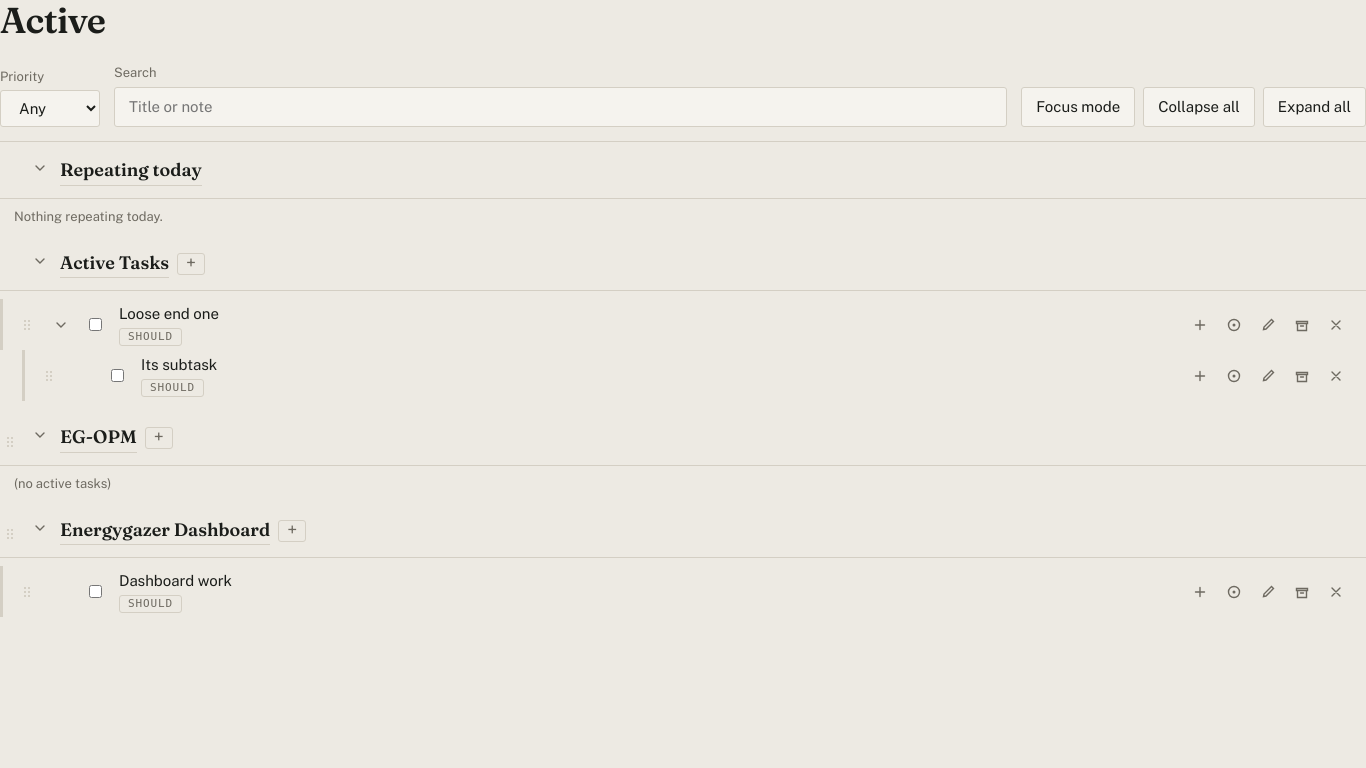
Test: adding from a category › closes on cancel without creating anything
The width and height of the screenshot is (1366, 768).
Click the button named "add a task": (191, 264) [177, 252, 205, 274]
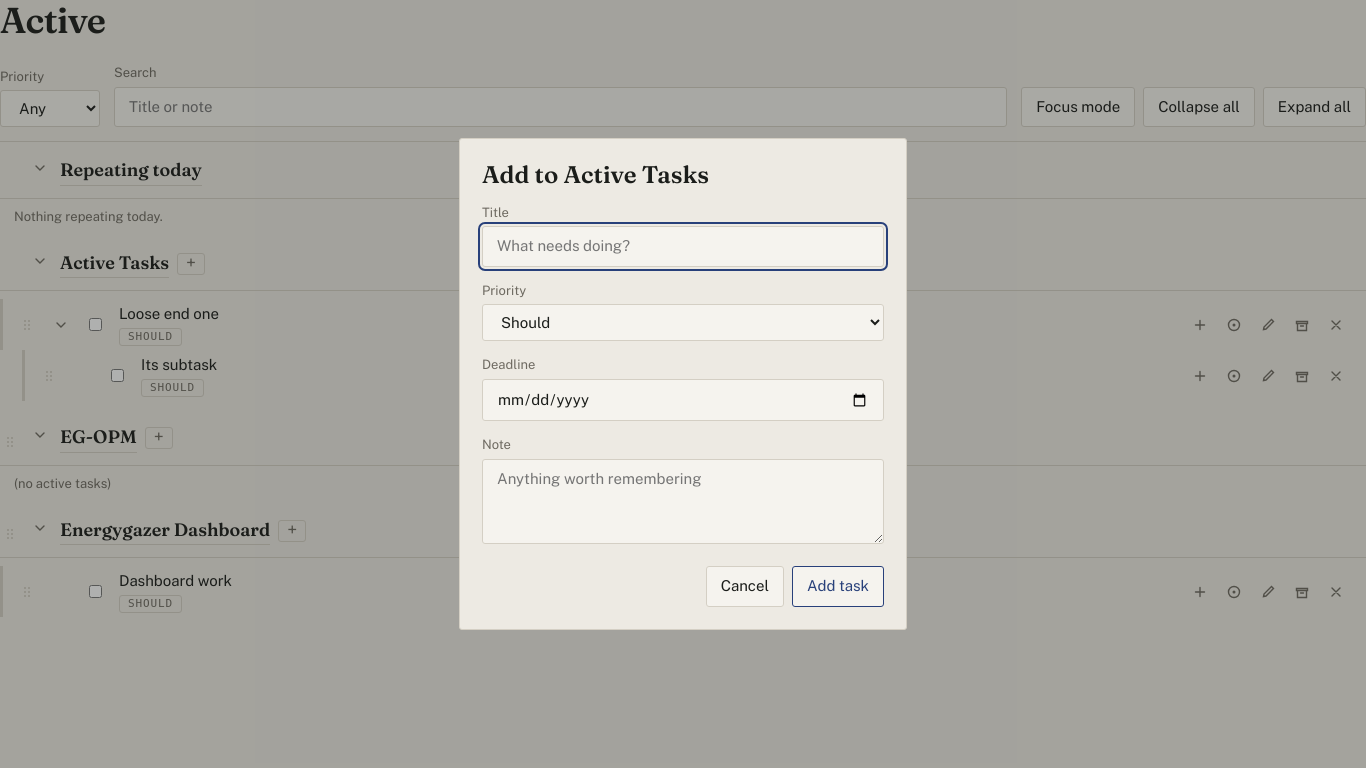
Now the dialog is shown, box [459, 138, 907, 630]
Click the button "Cancel": (745, 586) [706, 566, 784, 607]
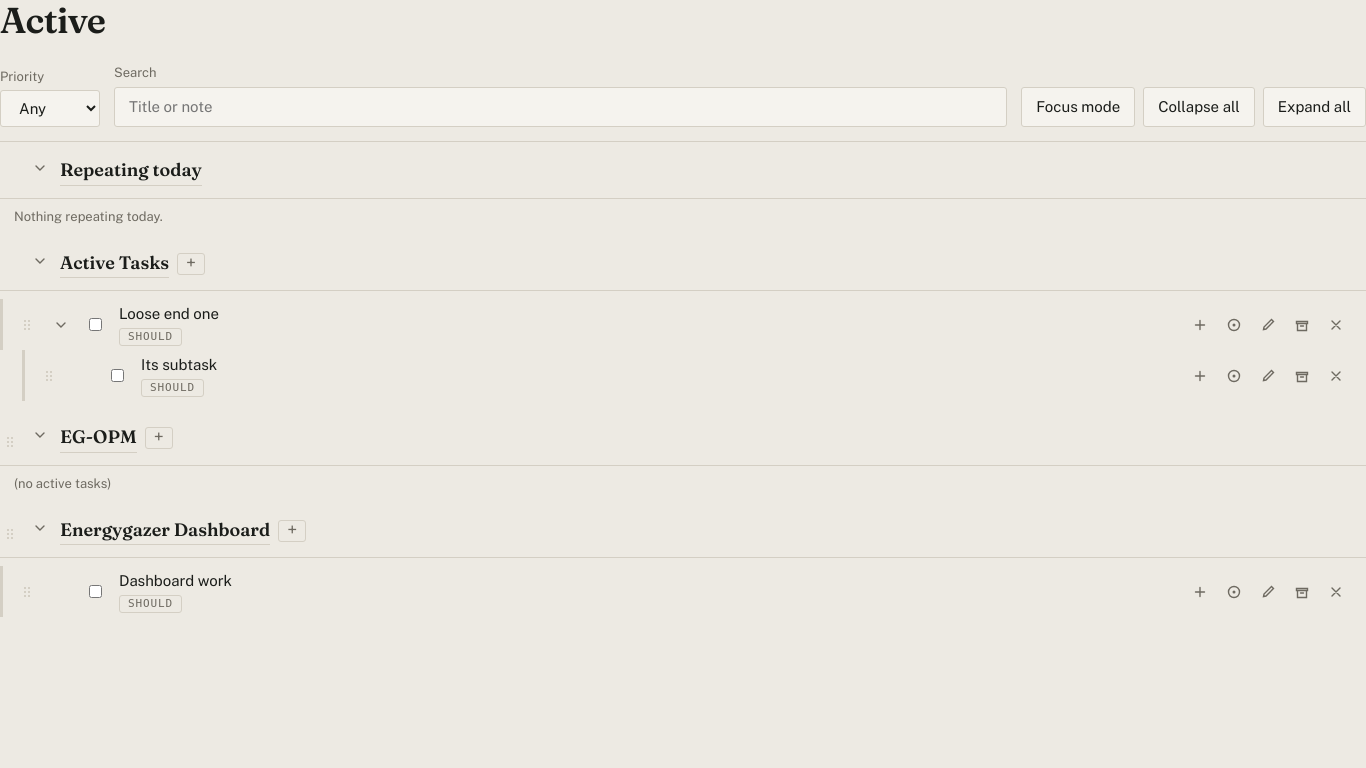
Now the dialog is gone
